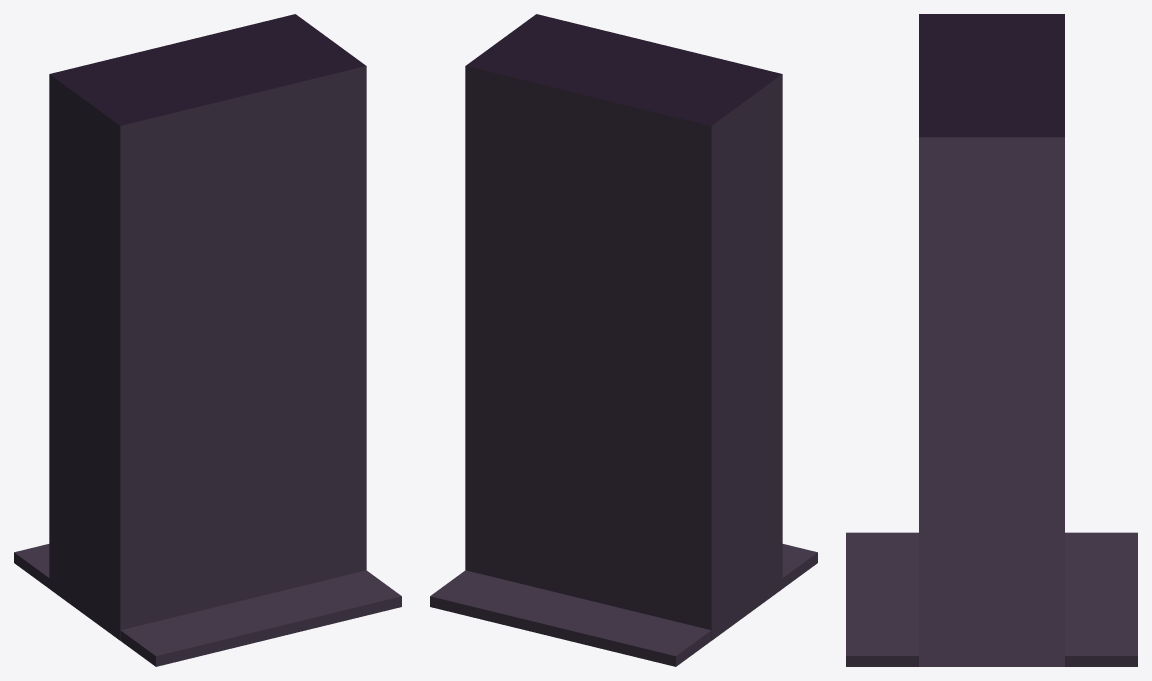
Rendered from wall_purple.dae.
3 views of the same model, side by side, from view 1: azimuth 30°, elevation 25°; view 2: azimuth 150°, elevation 25°; view 3: azimuth 270°, elevation 25° (orthographic). The views are drawn at different scales.
Parts seen in each view (by area): view 1: wall1_MSH1; view 2: wall1_MSH1; view 3: wall1_MSH1.
Part boxes in pixels (box(x1,y1,x2,y2)): wall1_MSH1: box(14, 14, 401, 666); wall1_MSH1: box(430, 14, 817, 666); wall1_MSH1: box(846, 14, 1137, 666).
Size of the model in its own units: 1 by 2 by 1.
